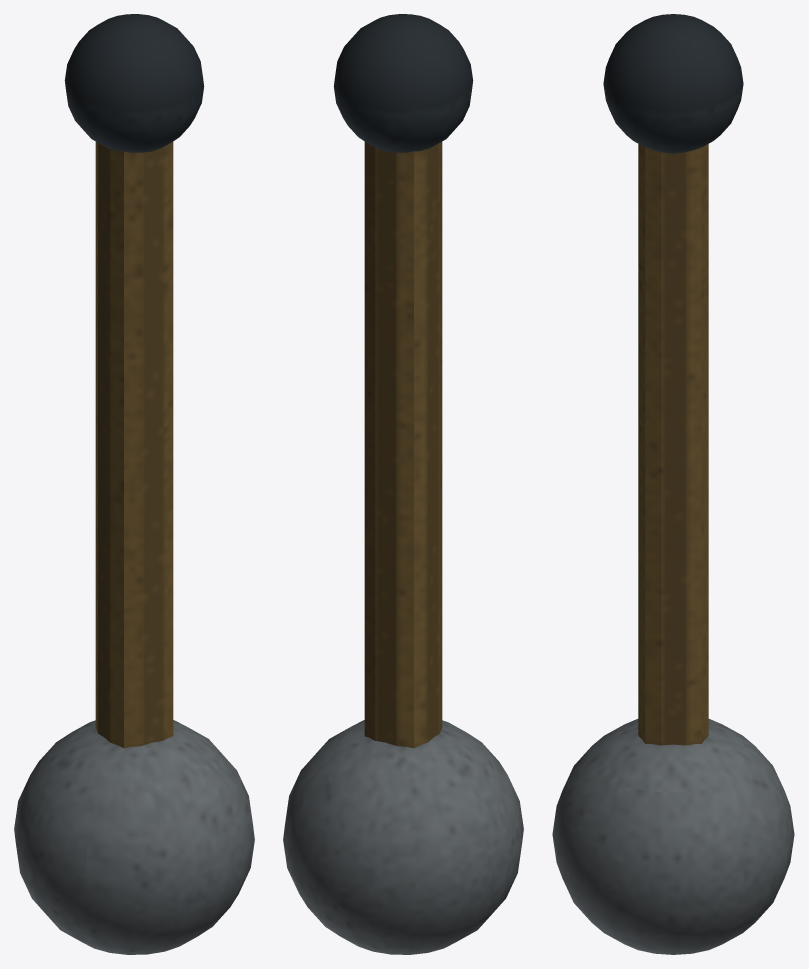
Rendered from 2_arm1.obj.
The picture shows the model from 3 angles, left to right: view 1: azimuth 30°, elevation 25°; view 2: azimuth 150°, elevation 25°; view 3: azimuth 270°, elevation 25°; orthographic projection.
Bounding box in the file's own units: 0.19 × 0.8 × 0.19.
1 material, 1 textured.
